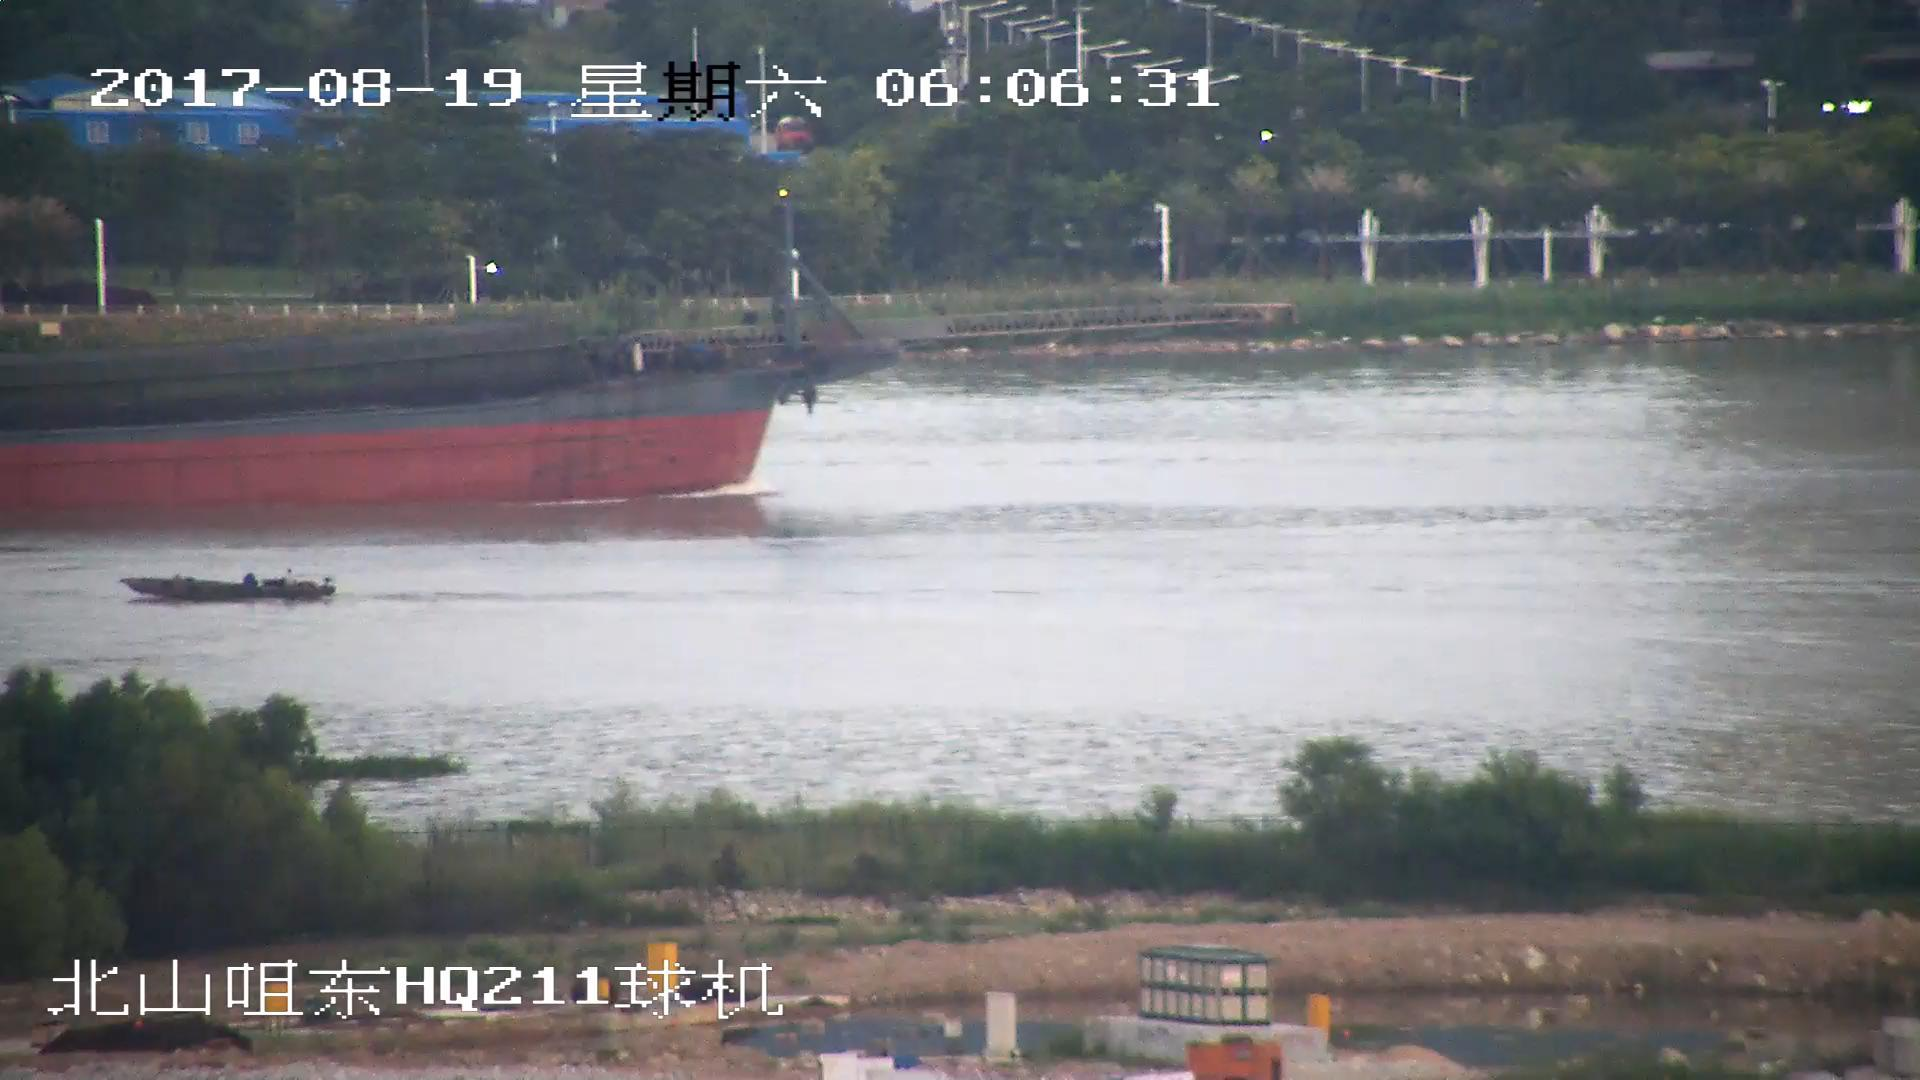Ship: (3, 196, 1284, 518), (123, 567, 342, 605)
